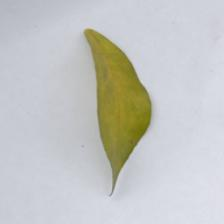greening: (79, 23, 158, 124)
